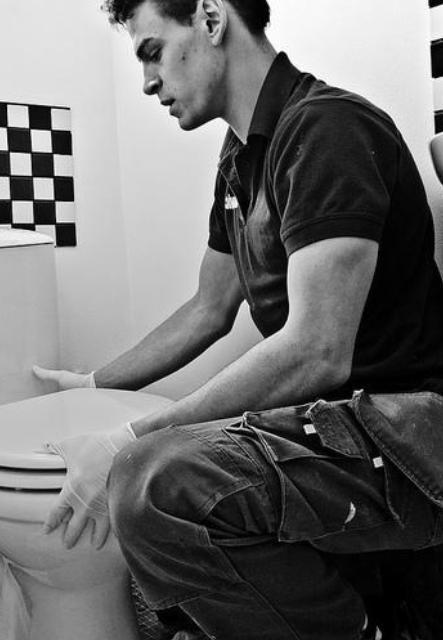Sanitario: (0, 225, 224, 640)
